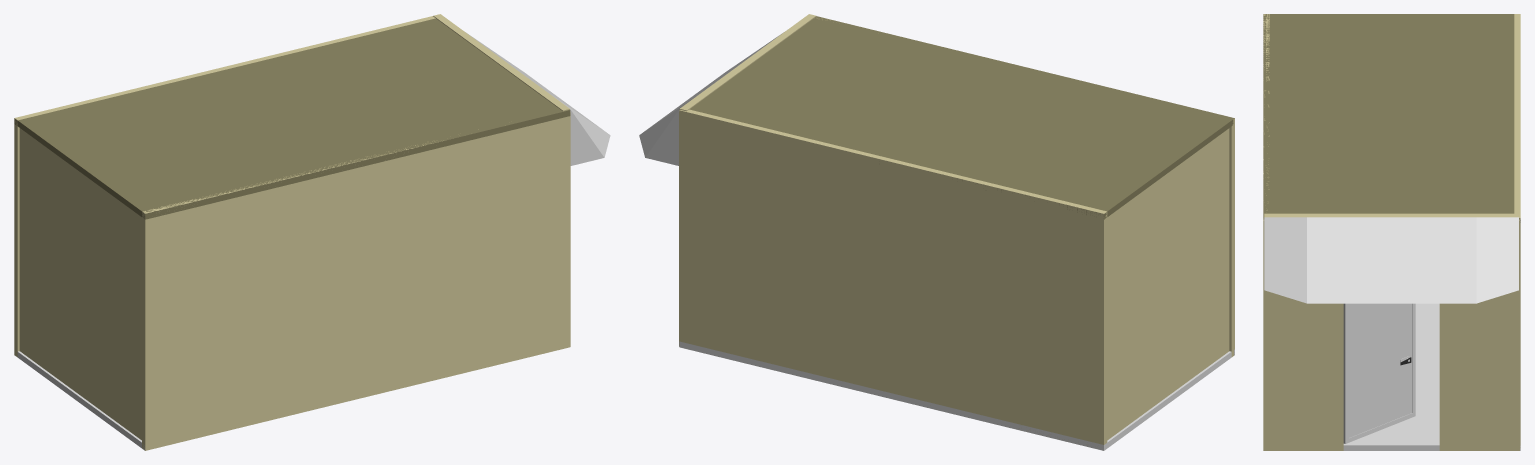
File: StoreLevers.fbx
3 renders of one model, left to right at view 1: azimuth 30°, elevation 25°; view 2: azimuth 150°, elevation 25°; view 3: azimuth 270°, elevation 25°, orthographic.
Parts seen in each view (by area): view 1: Paredes, Teto, Fachada, Batentes, Piso; view 2: Paredes, Teto, Piso, Fachada, Batentes; view 3: Teto, Batentes, Fachada, Porta, Piso, Paredes.
Boxes of the visible parts, x1=… form: Paredes: x1=14, y1=16, x2=570, y2=450; Teto: x1=14, y1=18, x2=570, y2=219; Fachada: x1=465, y1=32, x2=610, y2=165; Batentes: x1=433, y1=14, x2=570, y2=346; Piso: x1=17, y1=351, x2=145, y2=450; Paredes: x1=679, y1=18, x2=1234, y2=444; Teto: x1=689, y1=16, x2=1234, y2=219; Piso: x1=679, y1=341, x2=1234, y2=450; Fachada: x1=639, y1=32, x2=783, y2=165; Batentes: x1=679, y1=14, x2=816, y2=346; Teto: x1=1263, y1=14, x2=1520, y2=222; Batentes: x1=1263, y1=213, x2=1519, y2=450; Fachada: x1=1264, y1=217, x2=1518, y2=303; Porta: x1=1343, y1=303, x2=1415, y2=443; Piso: x1=1343, y1=303, x2=1520, y2=450; Paredes: x1=1263, y1=14, x2=1520, y2=448.
Bounding box in the file's own units: 1721 × 804 × 800.
